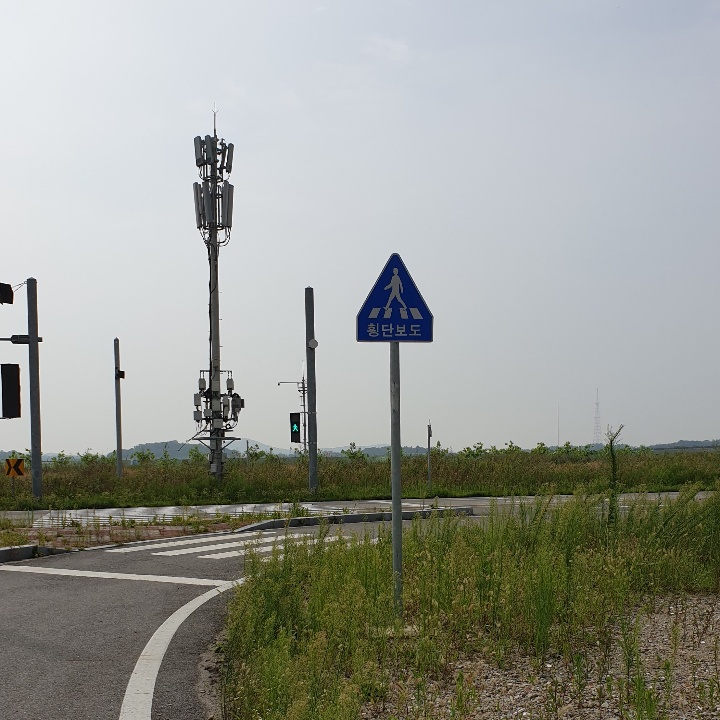cross: (376, 265, 417, 314)
